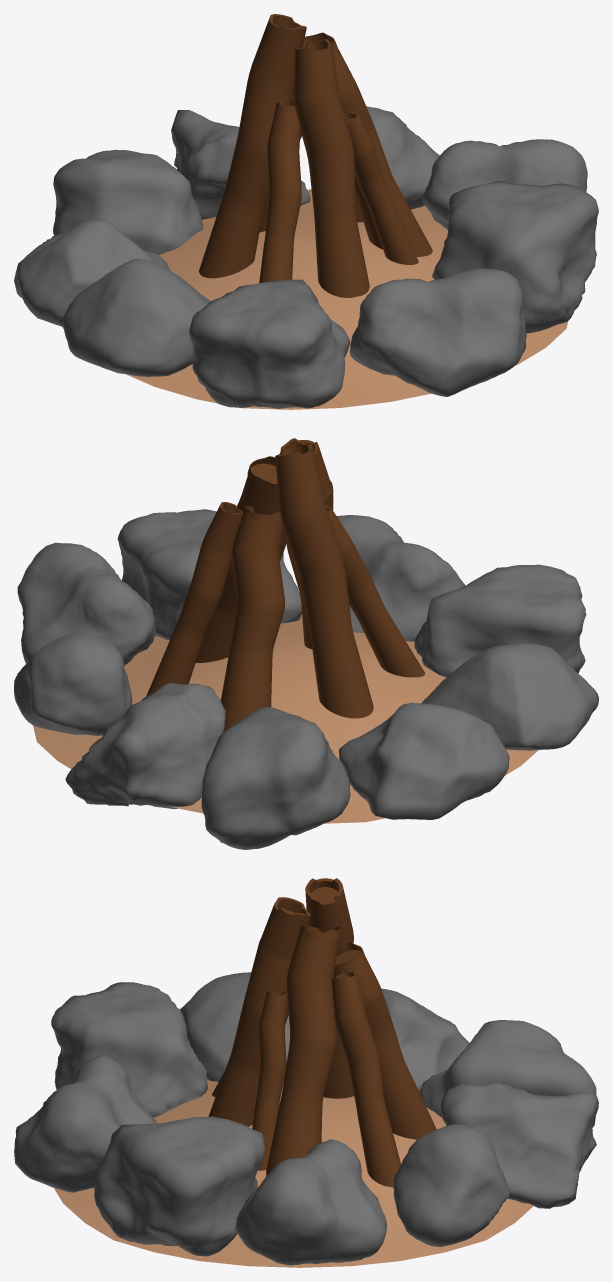
Rendered from hoguera completa.glb.
The picture shows the model from 3 angles, top to bottom: view 1: azimuth 30°, elevation 25°; view 2: azimuth 150°, elevation 25°; view 3: azimuth 270°, elevation 25°; orthographic projection. The views are drawn at different scales.
Visible parts, largest first — view 1: Cylinder.005; view 2: Cylinder.005; view 3: Cylinder.005.
Part boxes in pixels (<box>): Cylinder.005: <box>14,14,598,409</box>; Cylinder.005: <box>14,438,598,849</box>; Cylinder.005: <box>14,878,598,1267</box>.
Bounding box in the file's own units: 1.81 × 0.9602 × 1.76.
